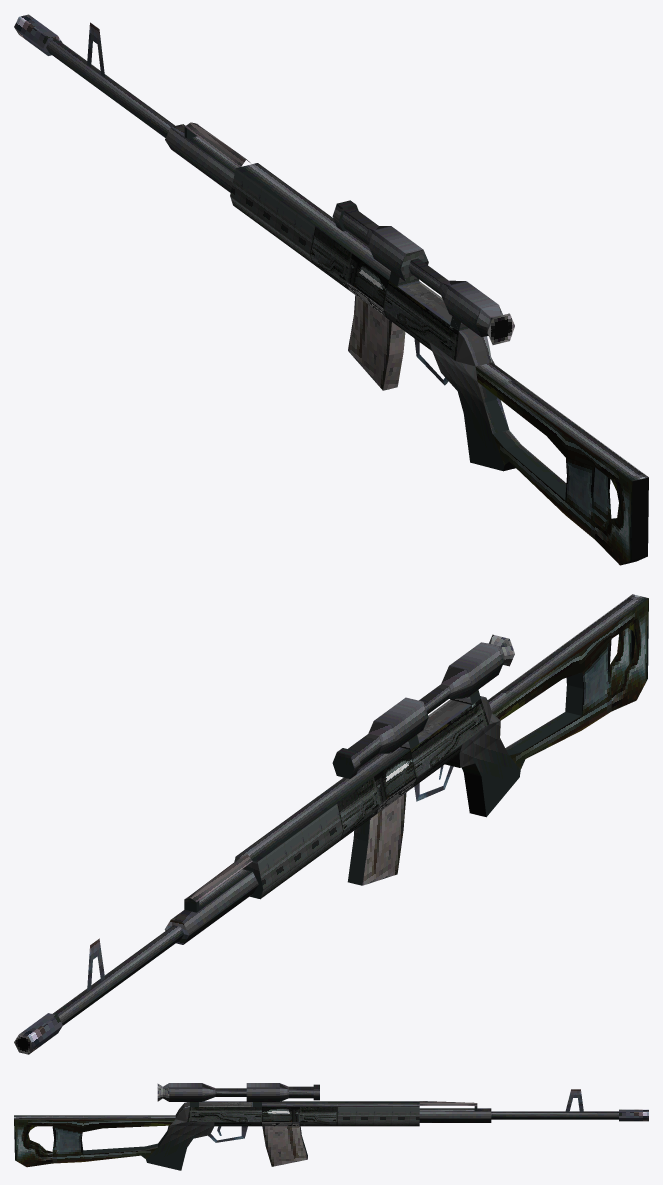
File: recovered_gun_dragunov_a6fd7420.glb
The picture shows the model from 3 angles, top to bottom: view 1: azimuth 30°, elevation 25°; view 2: azimuth 150°, elevation 25°; view 3: azimuth 270°, elevation 25°; orthographic projection. The views are drawn at different scales.
Visible parts, largest first — view 1: Gun_0714c50f9222, Gun_e73770932800, Gun_54c3450b3959, Gun_04e6b7cd2ecd, Gun_05c8ab4a692c, Gun_df2b1f4a47e4, Gun_b13d6834534a; view 2: Gun_0714c50f9222, Gun_e73770932800, Gun_04e6b7cd2ecd, Gun_54c3450b3959, Gun_05c8ab4a692c, Gun_df2b1f4a47e4, Gun_b13d6834534a; view 3: Gun_0714c50f9222, Gun_e73770932800, Gun_04e6b7cd2ecd, Gun_54c3450b3959, Gun_05c8ab4a692c, Gun_b13d6834534a, Gun_df2b1f4a47e4, Gun_1f5a2b896af9, Gun_4585a4b8e734.
Part boxes in pixels (box(x1,y1,x2,y2)): Gun_0714c50f9222: box(46, 39, 648, 499); Gun_e73770932800: box(310, 226, 648, 565); Gun_54c3450b3959: box(171, 124, 405, 390); Gun_04e6b7cd2ecd: box(230, 168, 315, 263); Gun_05c8ab4a692c: box(14, 14, 448, 385); Gun_df2b1f4a47e4: box(185, 122, 514, 344); Gun_b13d6834534a: box(398, 281, 452, 324); Gun_0714c50f9222: box(52, 594, 648, 1025); Gun_e73770932800: box(337, 598, 648, 840); Gun_04e6b7cd2ecd: box(257, 804, 342, 898); Gun_54c3450b3959: box(171, 792, 406, 922); Gun_05c8ab4a692c: box(19, 766, 453, 1054); Gun_df2b1f4a47e4: box(14, 853, 252, 1054); Gun_b13d6834534a: box(417, 699, 471, 743); Gun_0714c50f9222: box(14, 1083, 618, 1170); Gun_e73770932800: box(14, 1107, 337, 1167); Gun_04e6b7cd2ecd: box(337, 1107, 419, 1126); Gun_54c3450b3959: box(262, 1108, 491, 1166); Gun_05c8ab4a692c: box(208, 1089, 648, 1142); Gun_b13d6834534a: box(199, 1101, 252, 1106); Gun_df2b1f4a47e4: box(419, 1101, 477, 1105); Gun_1f5a2b896af9: box(262, 1122, 299, 1126); Gun_4585a4b8e734: box(157, 1083, 169, 1101).
Size of the model in its own units: 0.0462 by 0.2136 by 1.47.
Materials: 9 (9 with a texture image).
